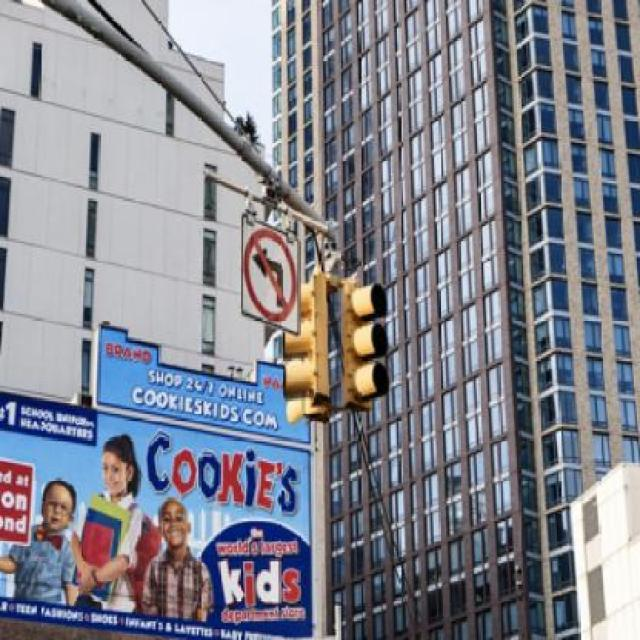Traffic_signal: (275, 270, 328, 418), (340, 271, 388, 417)
